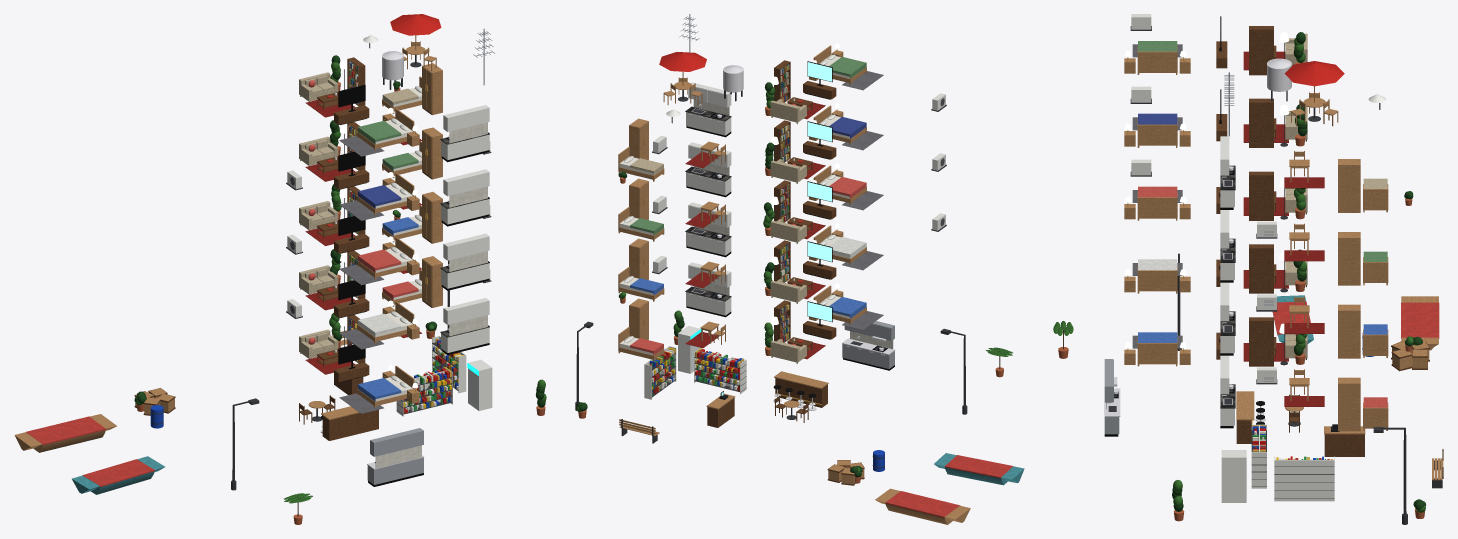
Rendered from i_canal_twin_tower.gltf.
3 views of the same model, side by side, from view 1: azimuth 30°, elevation 25°; view 2: azimuth 150°, elevation 25°; view 3: azimuth 270°, elevation 25° (orthographic). The views are drawn at different scales.
Parts seen in each view (by area): view 1: I_canal_twin_tower; view 2: I_canal_twin_tower; view 3: I_canal_twin_tower.
Boxes of the visible parts, x1=… form: I_canal_twin_tower: x1=14, y1=14, x2=546, y2=524; I_canal_twin_tower: x1=575, y1=14, x2=1024, y2=524; I_canal_twin_tower: x1=1053, y1=14, x2=1443, y2=524.
Bounding box in the file's own units: 22.1 × 19.55 × 15.54.
46 materials, 16 textured.
